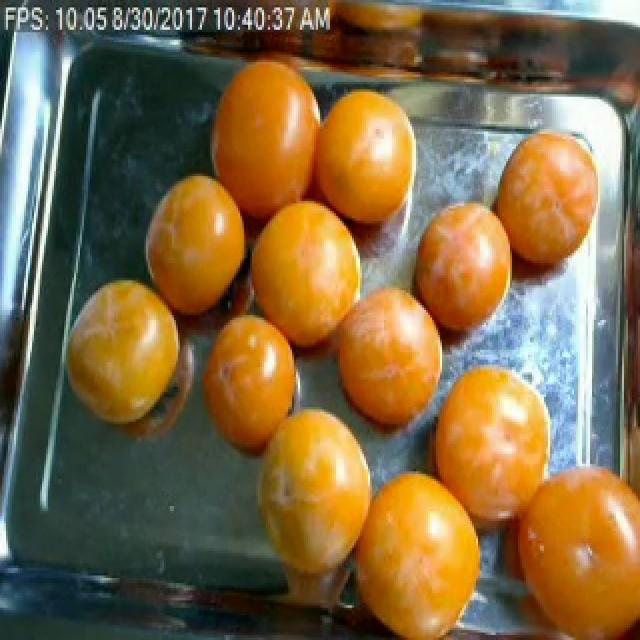Fruit: (238, 382, 386, 603), (330, 449, 494, 640), (316, 263, 446, 471), (192, 45, 334, 233), (400, 179, 528, 367), (302, 72, 430, 260), (60, 263, 188, 444), (486, 116, 606, 302), (184, 300, 306, 481), (130, 161, 252, 330)
